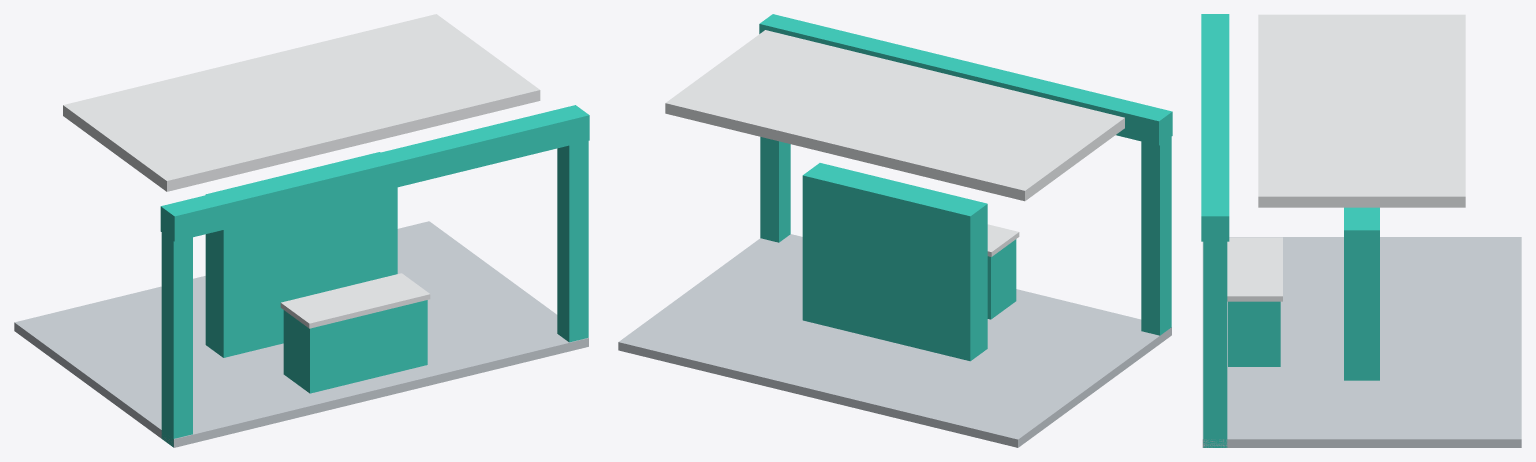
The picture shows the model from 3 angles, left to right: view 1: azimuth 30°, elevation 25°; view 2: azimuth 150°, elevation 25°; view 3: azimuth 270°, elevation 25°; orthographic projection. The views are drawn at different scales.
Parts seen in each view (by area): view 1: Exhibition Booth Concept; view 2: Exhibition Booth Concept; view 3: Exhibition Booth Concept.
Boxes of the visible parts, bbox=[...] form: Exhibition Booth Concept: bbox=[14, 14, 589, 447]; Exhibition Booth Concept: bbox=[618, 14, 1172, 447]; Exhibition Booth Concept: bbox=[1201, 14, 1521, 447].
Bounding box in the file's own units: 6 × 3.34 × 4.02.
